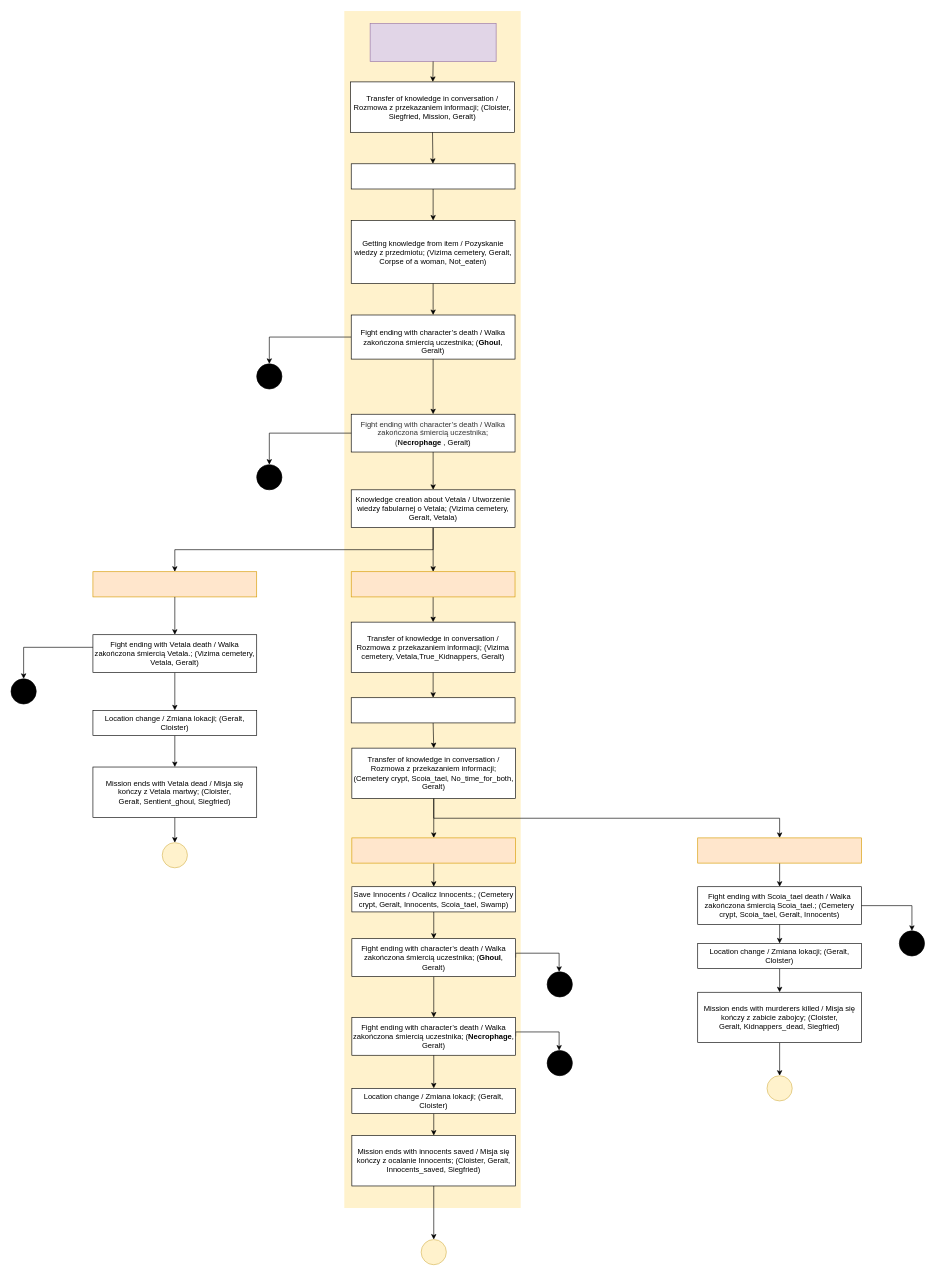
Image size: 936x1276. Some labels were removed from this diagram. Here are the shapes that lost their labels. From the top down, the centre of each, then its label:
At point 432,42: "(3.15 Six Feet Under)".
At point 433,176: "Location change / Zmiana lokacji; (Geralt, Cemetery )".
At point 174,584: "Kill Vetala".
At point 433,584: "Spare Vetala".
At point 433,710: "Location change / Zmiana lokacji; (Geralt, Cemetery Crypt )".
At point 433,850: "Go Save the innocents".
At point 779,850: "Kill the murderers".
